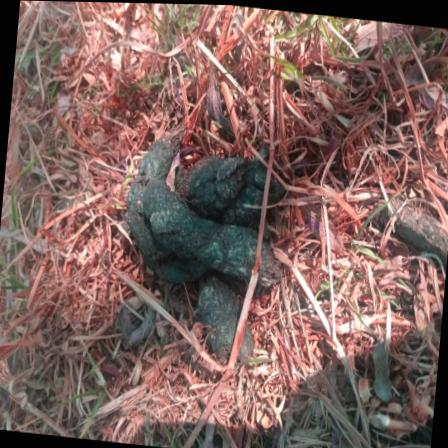dog-poop: (94, 123, 279, 370)
